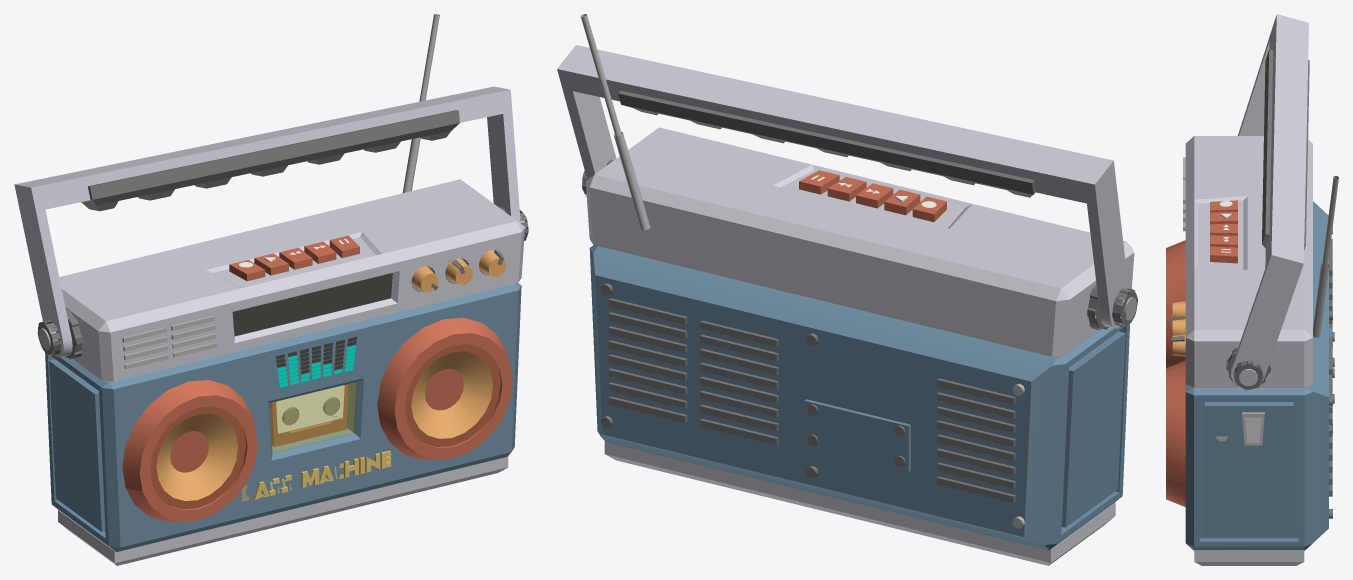
File: record.fbx
The picture shows the model from 3 angles, left to right: view 1: azimuth 30°, elevation 25°; view 2: azimuth 150°, elevation 25°; view 3: azimuth 270°, elevation 25°; orthographic projection. The views are drawn at different scales.
Parts seen in each view (by area): view 1: SuObj3d66_7609392693610_69_644, SuObj3d66_7609392693610_54_821, SuObj3d66_7609392693610_12_864, SuObj3d66_7609392693610_14_323, SuObj3d66_7609392693610_58_531, SuObj3d66_7609392693610_62_977, SuObj3d66_7609392693610_68_963, SuObj3d66_7609392693610_71_112, SuObj3d66_7609392693610_59_872, SuObj3d66_7609392693610_55_412, SuObj3d66_7609392693610_52_221, SuObj3d66_7609392693610_56_933 (+9 smaller); view 2: SuObj3d66_7609392693610_69_644, SuObj3d66_7609392693610_54_821, SuObj3d66_7609392693610_12_864, SuObj3d66_7609392693610_68_963, SuObj3d66_7609392693610_14_323, SuObj3d66_7609392693610_51_470, SuObj3d66_7609392693610_50_455, SuObj3d66_7609392693610_49_991, SuObj3d66_7609392693610_70_450, SuObj3d66_7609392693610_2_57; view 3: SuObj3d66_7609392693610_69_644, SuObj3d66_7609392693610_54_821, SuObj3d66_7609392693610_12_864, SuObj3d66_7609392693610_62_977, SuObj3d66_7609392693610_14_323, SuObj3d66_7609392693610_68_963, SuObj3d66_7609392693610_58_531, SuObj3d66_7609392693610_2_57, SuObj3d66_7609392693610_42_50, SuObj3d66_7609392693610_51_470, SuObj3d66_7609392693610_16_486, SuObj3d66_7609392693610_26_671 (+5 smaller).
Part boxes in pixels (x1,y1,x2,y2): SuObj3d66_7609392693610_69_644: (45, 262, 521, 552); SuObj3d66_7609392693610_54_821: (59, 179, 524, 382); SuObj3d66_7609392693610_12_864: (14, 86, 525, 357); SuObj3d66_7609392693610_14_323: (37, 110, 528, 359); SuObj3d66_7609392693610_58_531: (122, 380, 257, 521); SuObj3d66_7609392693610_62_977: (377, 317, 512, 459); SuObj3d66_7609392693610_68_963: (58, 456, 508, 565); SuObj3d66_7609392693610_71_112: (270, 382, 357, 453); SuObj3d66_7609392693610_59_872: (411, 351, 492, 438); SuObj3d66_7609392693610_55_412: (156, 413, 237, 500); SuObj3d66_7609392693610_52_221: (232, 273, 392, 336); SuObj3d66_7609392693610_56_933: (150, 406, 245, 509); SuObj3d66_7609392693610_69_644: (589, 245, 1129, 550); SuObj3d66_7609392693610_54_821: (585, 127, 1134, 357); SuObj3d66_7609392693610_12_864: (557, 45, 1128, 328); SuObj3d66_7609392693610_68_963: (604, 441, 1115, 565); SuObj3d66_7609392693610_14_323: (582, 90, 1137, 329); SuObj3d66_7609392693610_51_470: (608, 298, 687, 422); SuObj3d66_7609392693610_50_455: (700, 320, 778, 445); SuObj3d66_7609392693610_49_991: (937, 378, 1015, 503); SuObj3d66_7609392693610_70_450: (804, 399, 910, 472); SuObj3d66_7609392693610_2_57: (580, 14, 650, 230); SuObj3d66_7609392693610_69_644: (1185, 201, 1328, 550); SuObj3d66_7609392693610_54_821: (1185, 136, 1312, 388); SuObj3d66_7609392693610_12_864: (1231, 14, 1308, 388); SuObj3d66_7609392693610_62_977: (1166, 360, 1185, 507); SuObj3d66_7609392693610_14_323: (1226, 49, 1309, 390); SuObj3d66_7609392693610_68_963: (1194, 550, 1304, 565); SuObj3d66_7609392693610_58_531: (1166, 240, 1185, 368); SuObj3d66_7609392693610_2_57: (1313, 176, 1338, 337); SuObj3d66_7609392693610_42_50: (1242, 412, 1264, 445); SuObj3d66_7609392693610_51_470: (1329, 375, 1332, 496); SuObj3d66_7609392693610_16_486: (1210, 246, 1237, 263); SuObj3d66_7609392693610_26_671: (1210, 235, 1237, 247).
Bounding box in the file's own units: 51.48 × 41.65 × 16.61.
